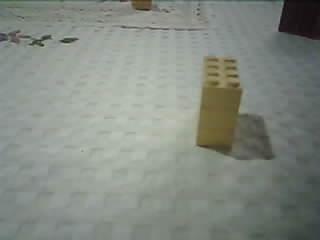lego: (193, 53, 243, 150)
